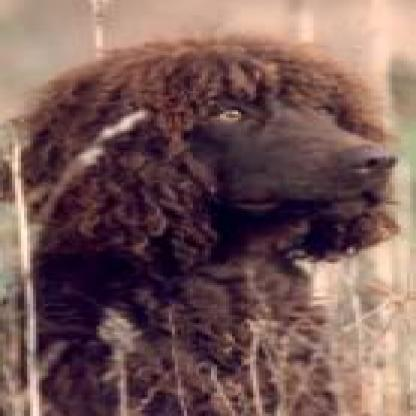Irish_water_spaniel: (9, 36, 401, 412)
